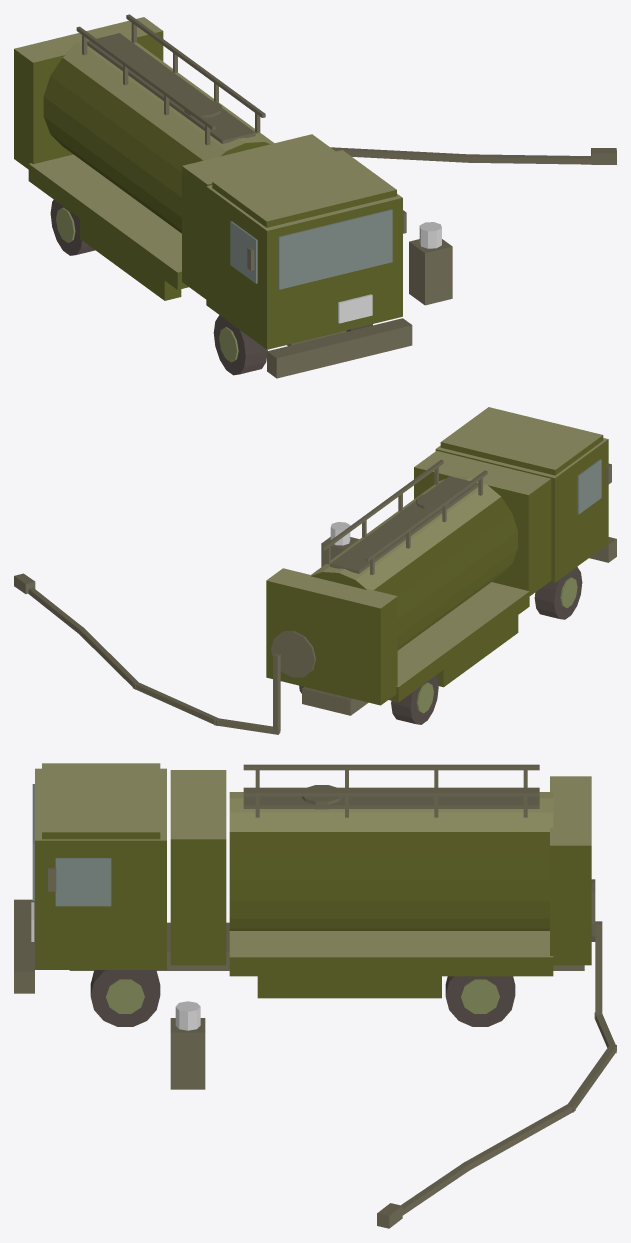
The model's file is SM_CamionCisterna_v1_Repostando_LOD0.fbx.
The picture shows the model from 3 angles, top to bottom: view 1: azimuth 30°, elevation 25°; view 2: azimuth 150°, elevation 25°; view 3: azimuth 270°, elevation 25°; orthographic projection. The views are drawn at different scales.
Visible parts, largest first — view 1: SM_camion_cisterna_v1_LOD0; view 2: SM_camion_cisterna_v1_LOD0; view 3: SM_camion_cisterna_v1_LOD0.
Boxes of the visible parts, x1=… form: SM_camion_cisterna_v1_LOD0: x1=14, y1=14, x2=616, y2=378; SM_camion_cisterna_v1_LOD0: x1=14, y1=407, x2=616, y2=734; SM_camion_cisterna_v1_LOD0: x1=14, y1=763, x2=616, y2=1228.
Size of the model in its own units: 9.43 by 3.41 by 8.66.
